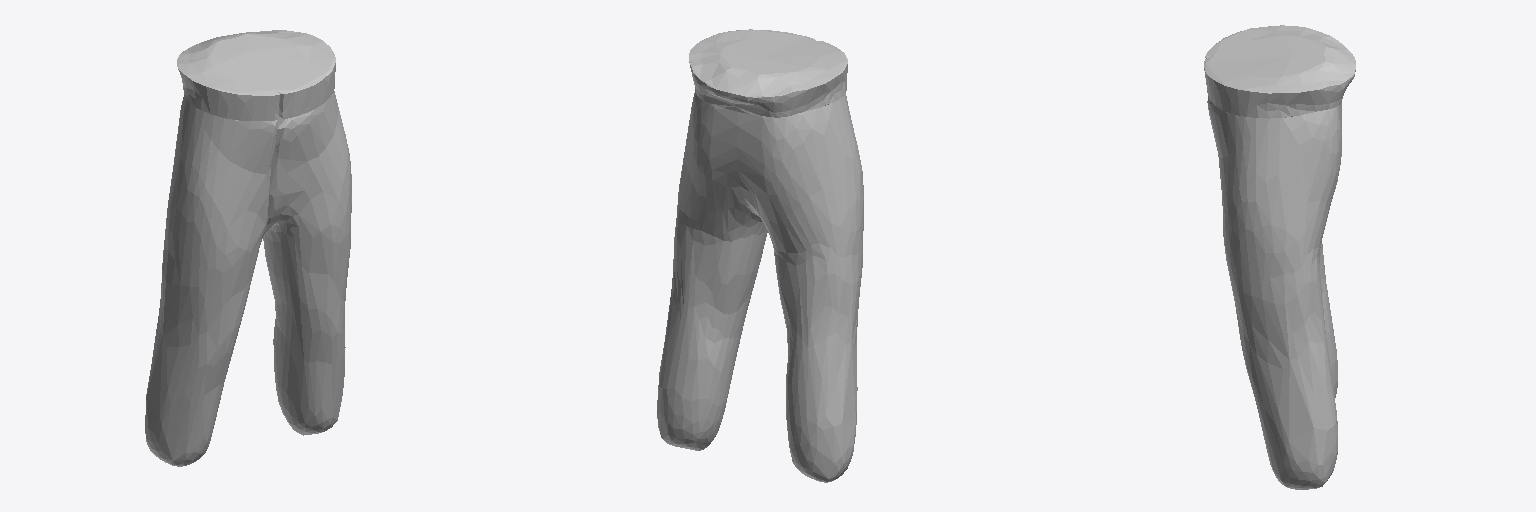
Rendered from Thug02_pants.OBJ.
3 renders of one model, left to right at view 1: azimuth 30°, elevation 25°; view 2: azimuth 150°, elevation 25°; view 3: azimuth 270°, elevation 25°, orthographic.
Parts seen in each view (by area): view 1: Group56956; view 2: Group56956; view 3: Group56956.
Boxes of the visible parts, x1,y1,x2,y2 form: Group56956: [145, 30, 351, 466]; Group56956: [657, 29, 863, 482]; Group56956: [1204, 25, 1355, 489].
Bounding box in the file's own units: 4.63 × 9.52 × 3.27.